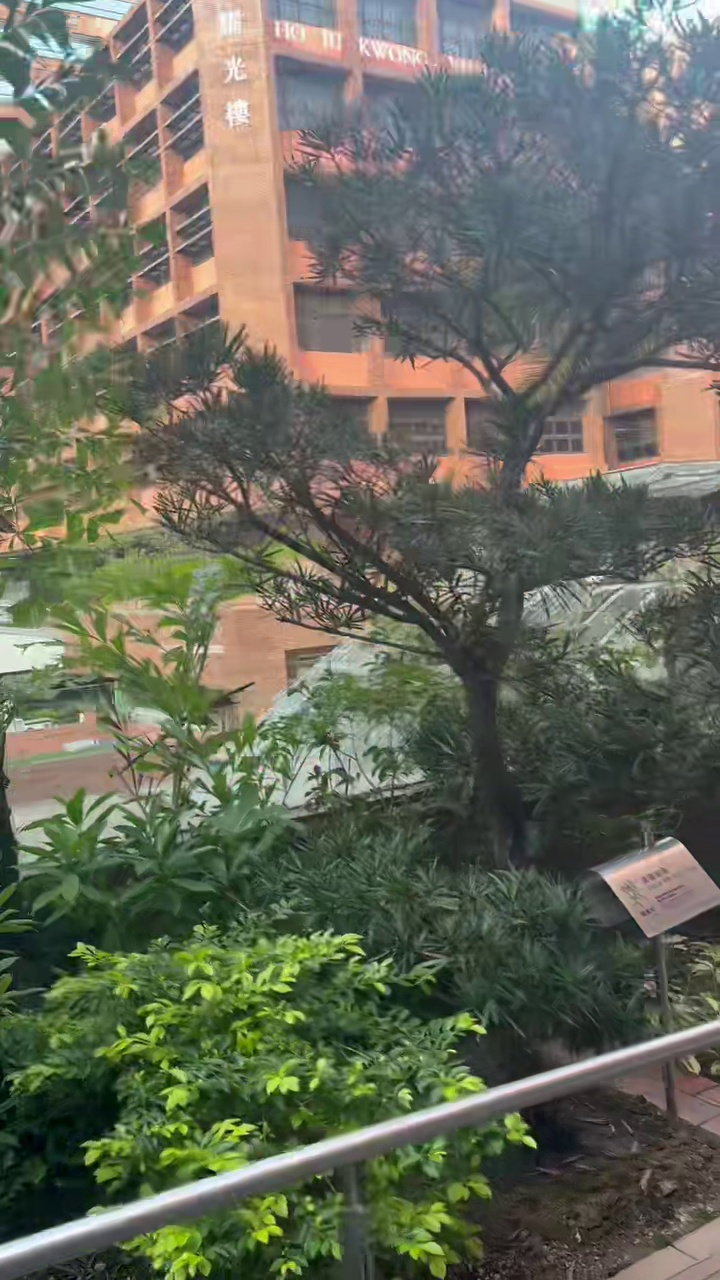Podocarpus macrophyllus: (161, 11, 719, 864)
